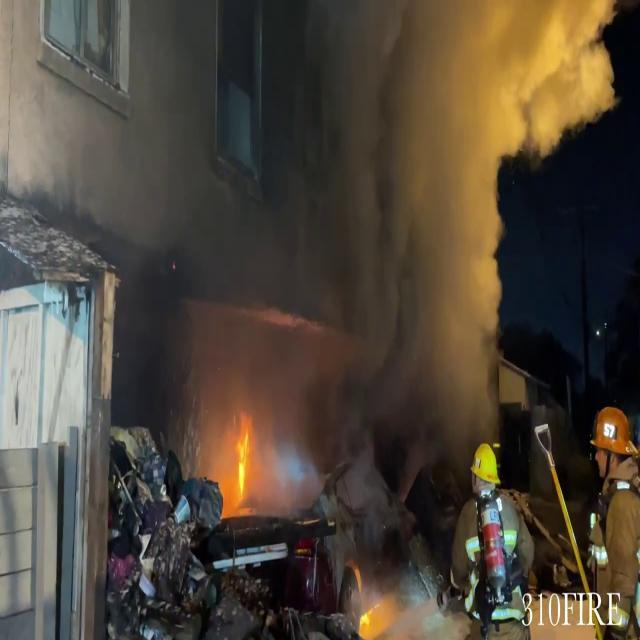Fire: (216, 406, 258, 516)
Smoke: (183, 1, 534, 470)
